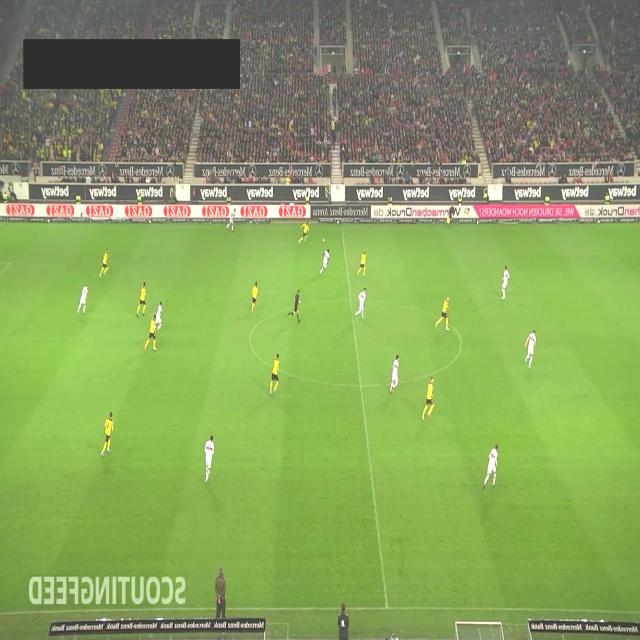ball: (322, 238, 325, 244)
player: (482, 443, 498, 491), (100, 411, 114, 457), (420, 377, 434, 421), (203, 434, 214, 484), (435, 296, 450, 332), (144, 314, 158, 351), (269, 352, 280, 396), (524, 329, 536, 369), (390, 354, 400, 394), (354, 287, 366, 319), (136, 281, 146, 318), (318, 248, 331, 276), (76, 284, 88, 314), (100, 247, 110, 278), (501, 265, 510, 299), (356, 249, 366, 277), (298, 221, 310, 243), (250, 281, 258, 313), (226, 208, 236, 232), (155, 300, 162, 330)
referee: (288, 288, 301, 322), (446, 203, 454, 228)
